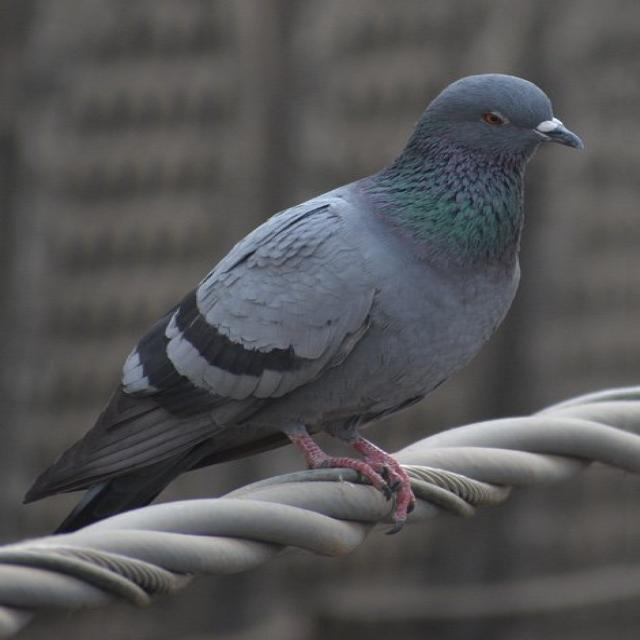Pigeon: (29, 70, 586, 514)
